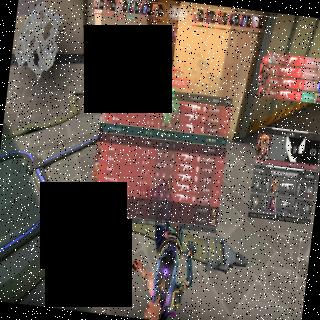ENEMY-BODY: (164, 22, 178, 64)
ENEMY-HEAD: (172, 24, 175, 32)
